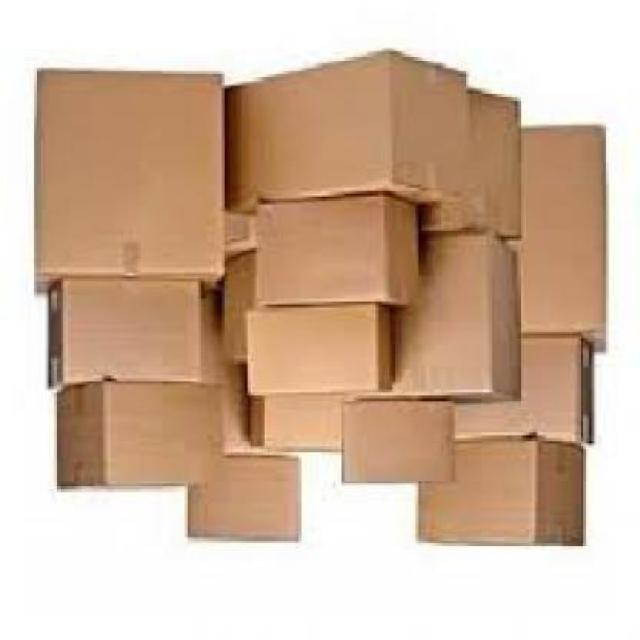CARDBOARD: (37, 69, 228, 296), (226, 51, 474, 214), (333, 239, 521, 407), (518, 124, 608, 358), (262, 196, 424, 313), (60, 382, 231, 492), (421, 441, 588, 548), (50, 276, 204, 392), (458, 336, 597, 452), (425, 88, 526, 245), (251, 307, 398, 401), (190, 458, 308, 547), (344, 406, 461, 489), (204, 288, 250, 455), (252, 400, 342, 458), (224, 253, 258, 370)
